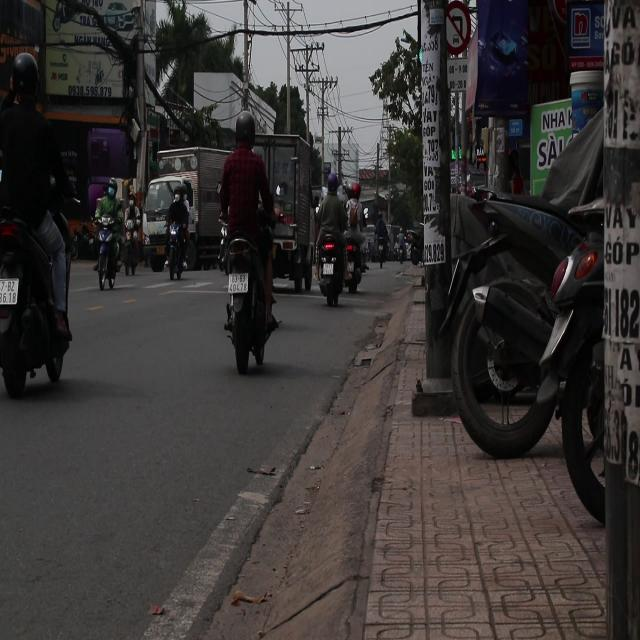motorbike: (1, 204, 73, 396), (210, 203, 281, 387), (312, 222, 350, 306), (94, 188, 124, 286)
truck: (232, 126, 319, 301), (150, 142, 230, 266)
